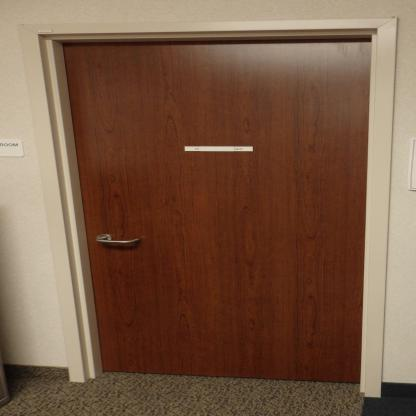door: (77, 42, 358, 384)
lever: (94, 234, 143, 250)
